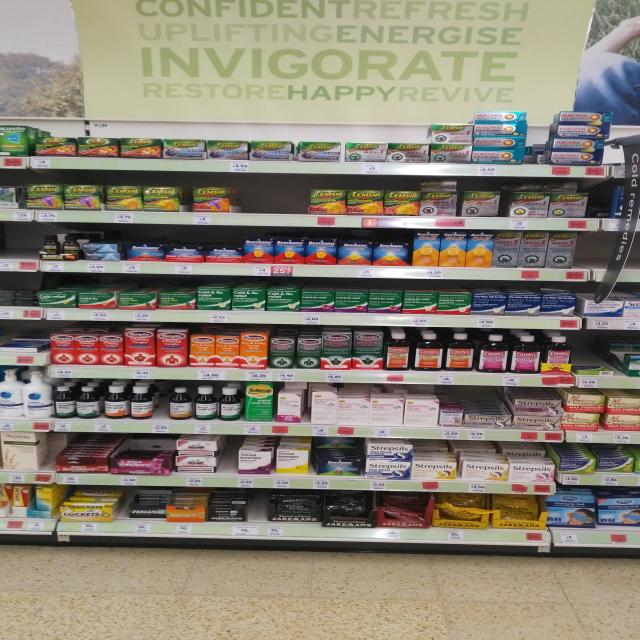void: (270, 178, 306, 226), (0, 228, 37, 272), (576, 232, 608, 282), (233, 181, 267, 226), (609, 234, 640, 281)
